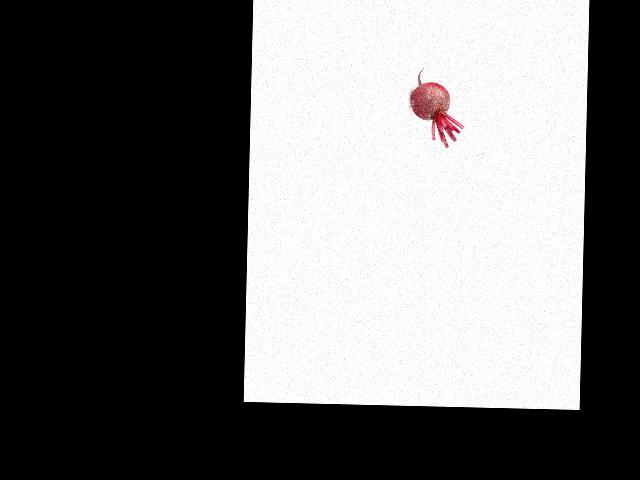beet: (409, 67, 464, 148)
